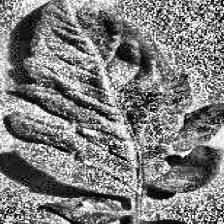disease: (11, 0, 224, 224)
